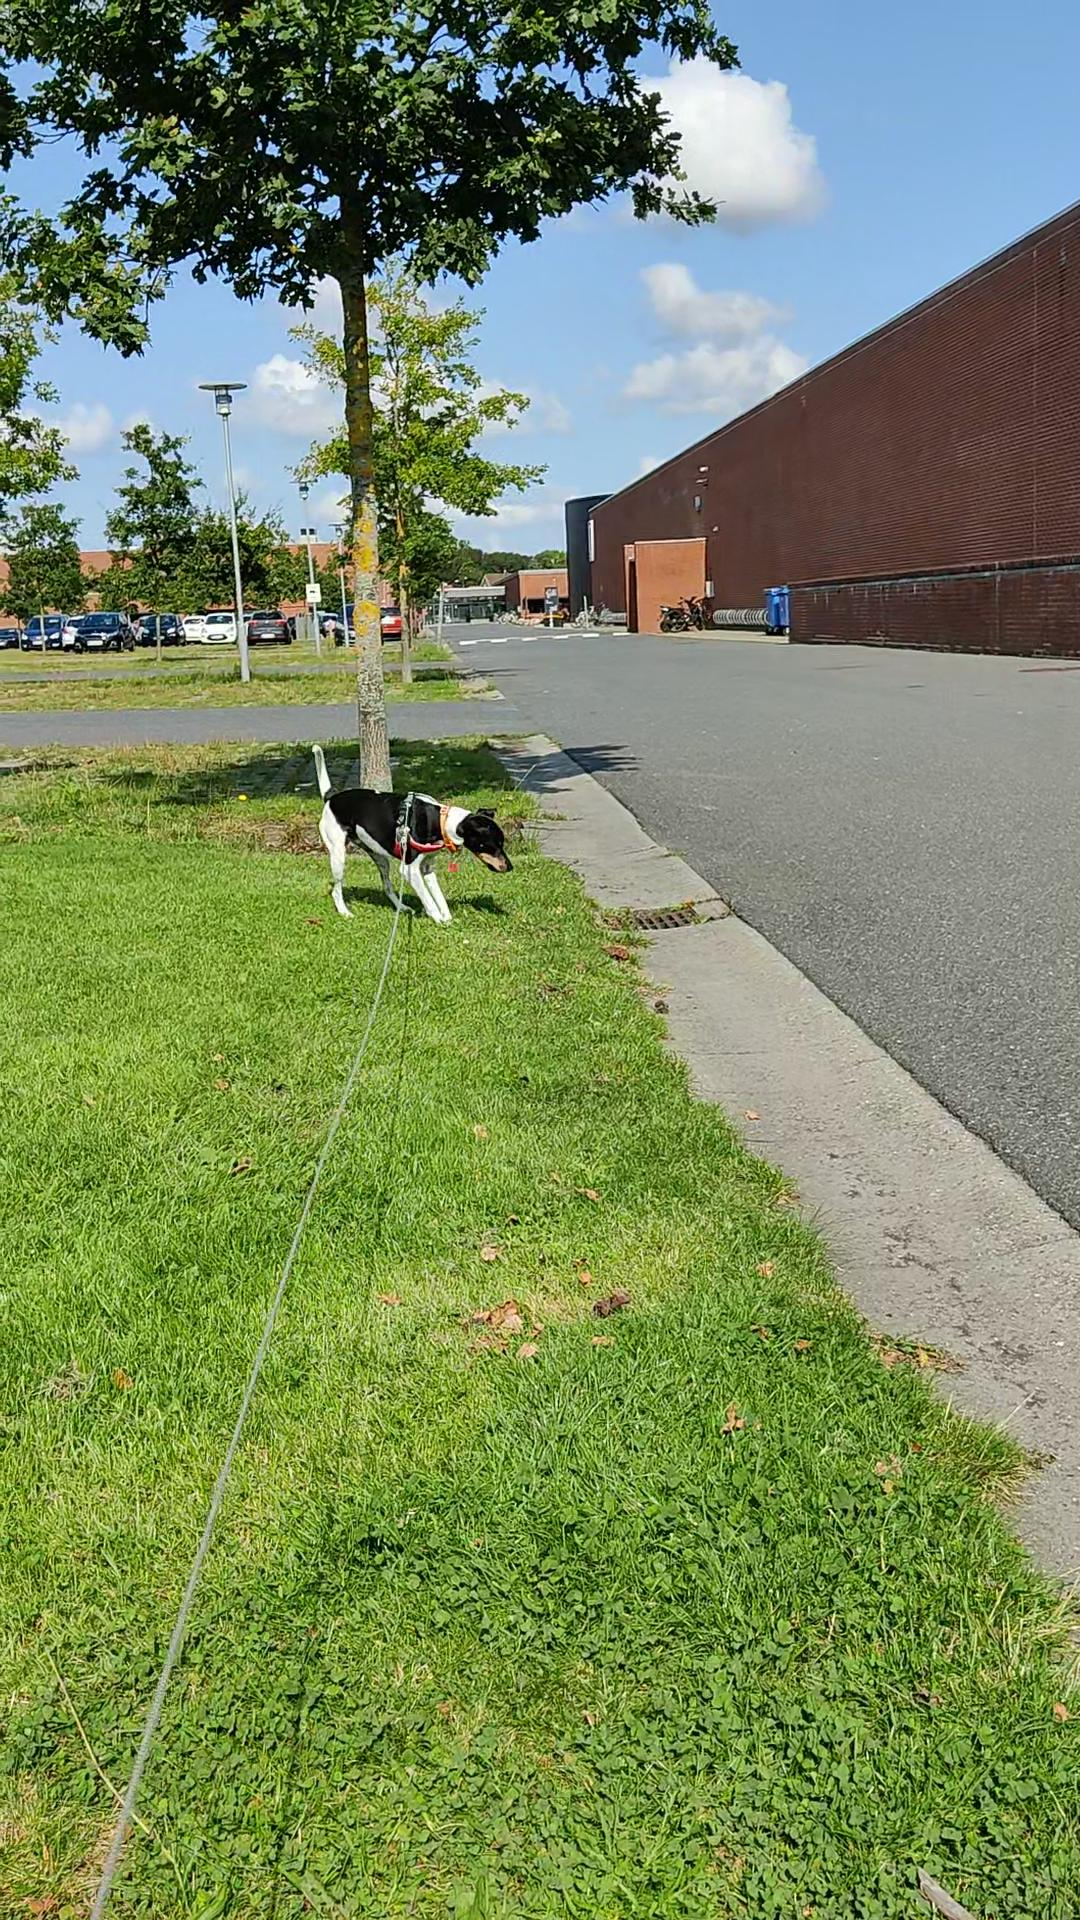Dog: (309, 741, 517, 927)
